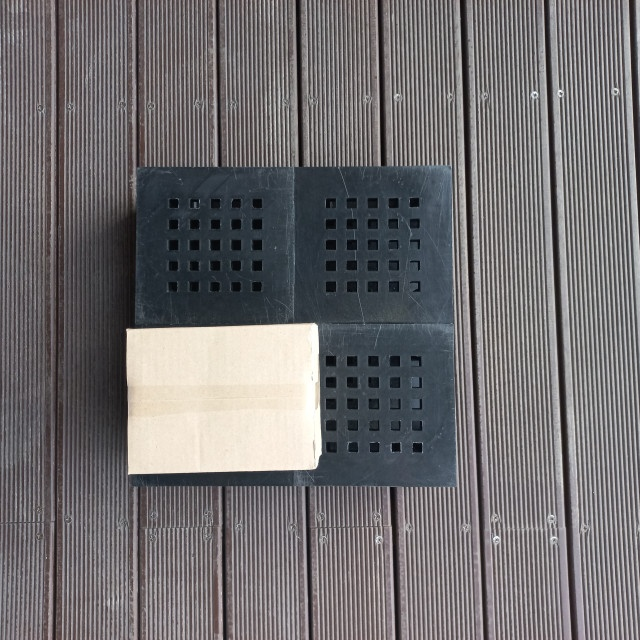box: (124, 321, 318, 477)
pallet: (124, 166, 458, 487)
